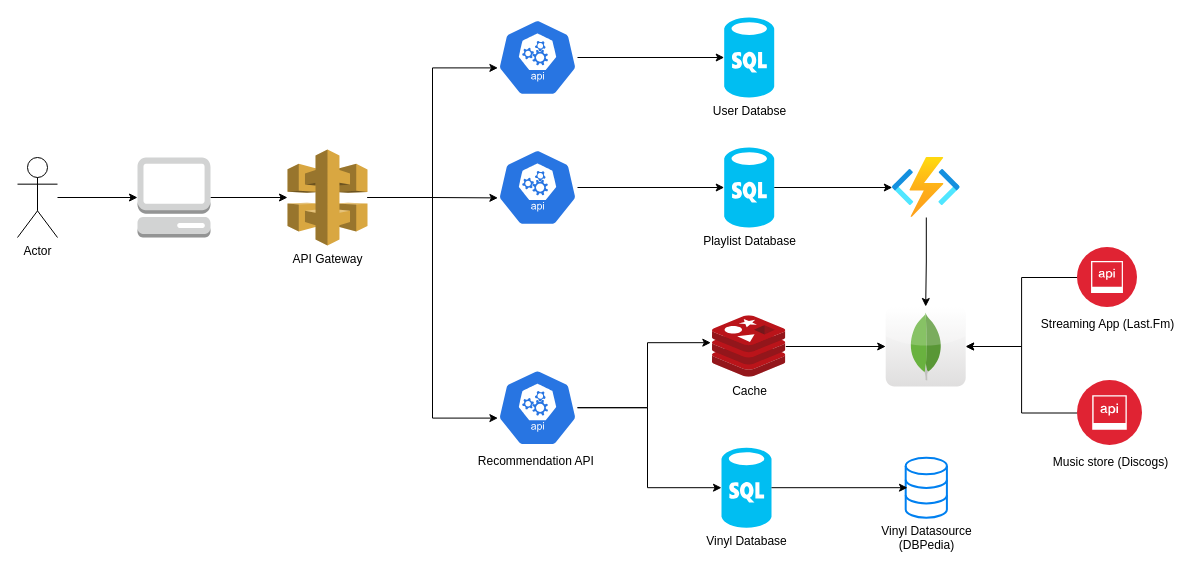
Image size: 1191x571. Some labels were removed from this diagram. Here are the shapes that lost their labels. From the top down, the box of each, then its label:
(496, 16, 578, 98): User API
(136, 156, 210, 238): Web Application
(496, 146, 578, 228): Playlist API
(892, 157, 960, 217): Scheduled analysis over user playlists
(885, 306, 966, 386): Preferences Database
